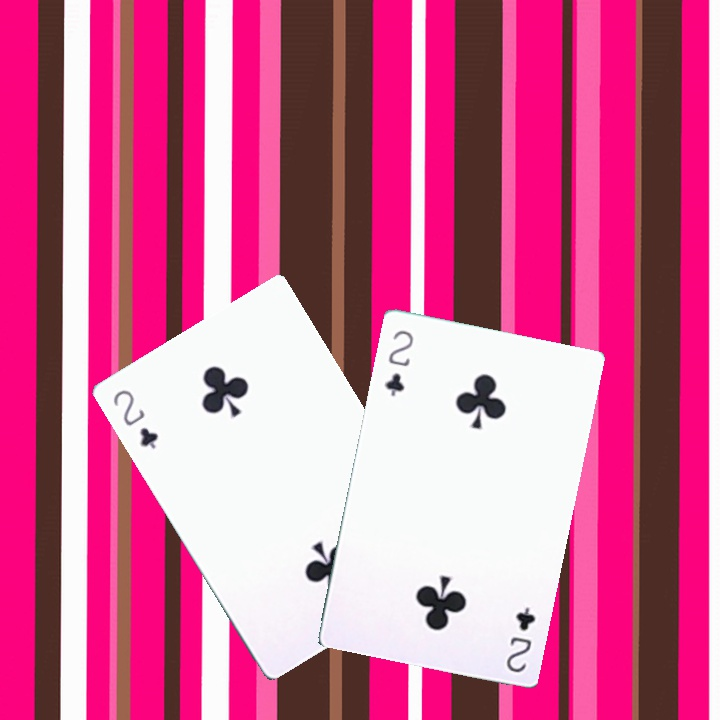2c: (109, 385, 161, 452), (502, 602, 538, 676), (380, 326, 416, 399)
